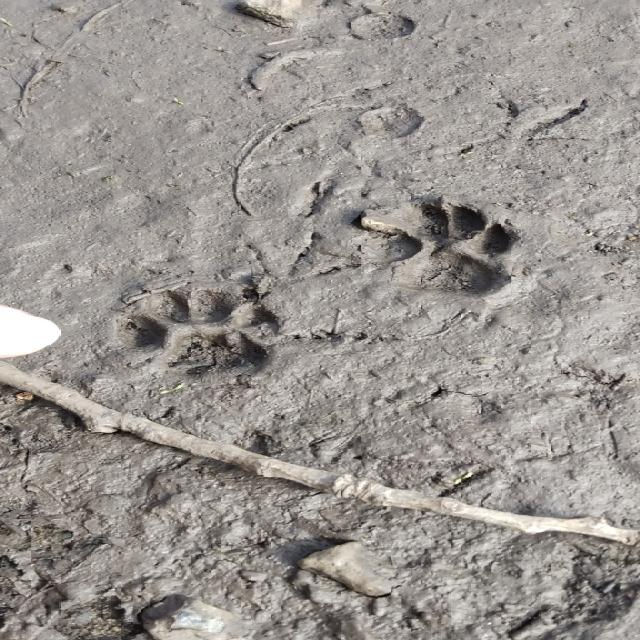felid: (118, 291, 282, 380), (376, 204, 516, 296)
